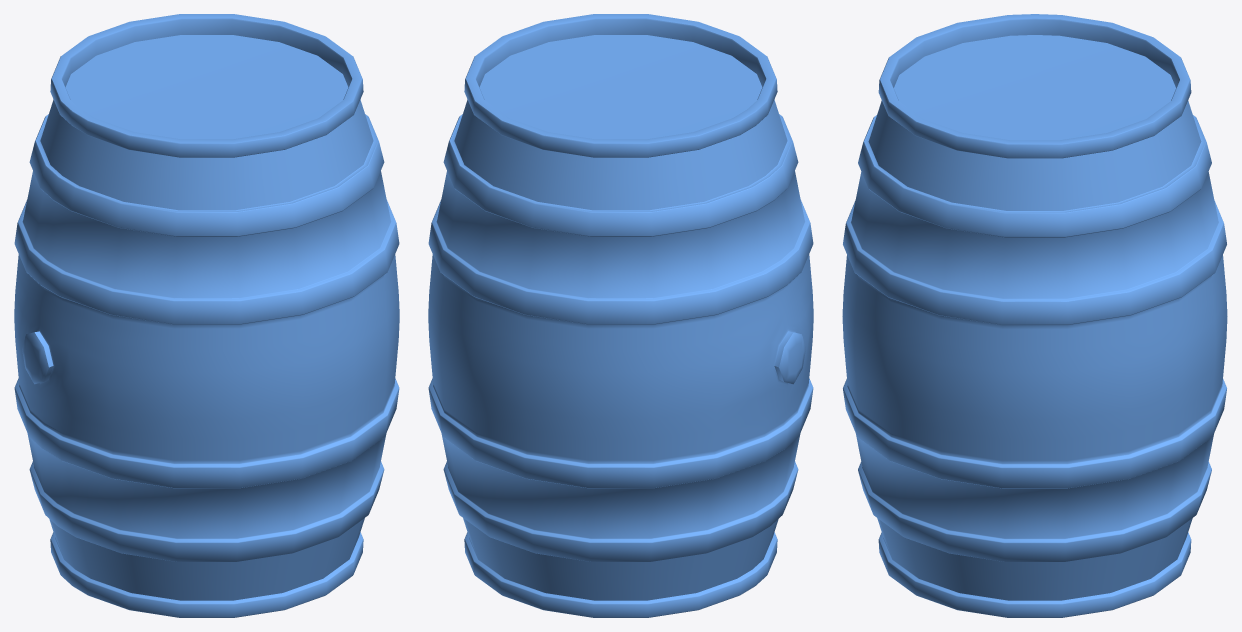
3 renders of one model, left to right at view 1: azimuth 30°, elevation 25°; view 2: azimuth 150°, elevation 25°; view 3: azimuth 270°, elevation 25°, orthographic.
Visible parts, largest first — view 1: g LP; view 2: g LP; view 3: g LP.
Boxes of the visible parts, x1=… form: g LP: x1=14, y1=14, x2=399, y2=617; g LP: x1=428, y1=14, x2=813, y2=617; g LP: x1=842, y1=14, x2=1227, y2=617.
Bounding box in the file's own units: 1.5 × 2 × 1.47.
